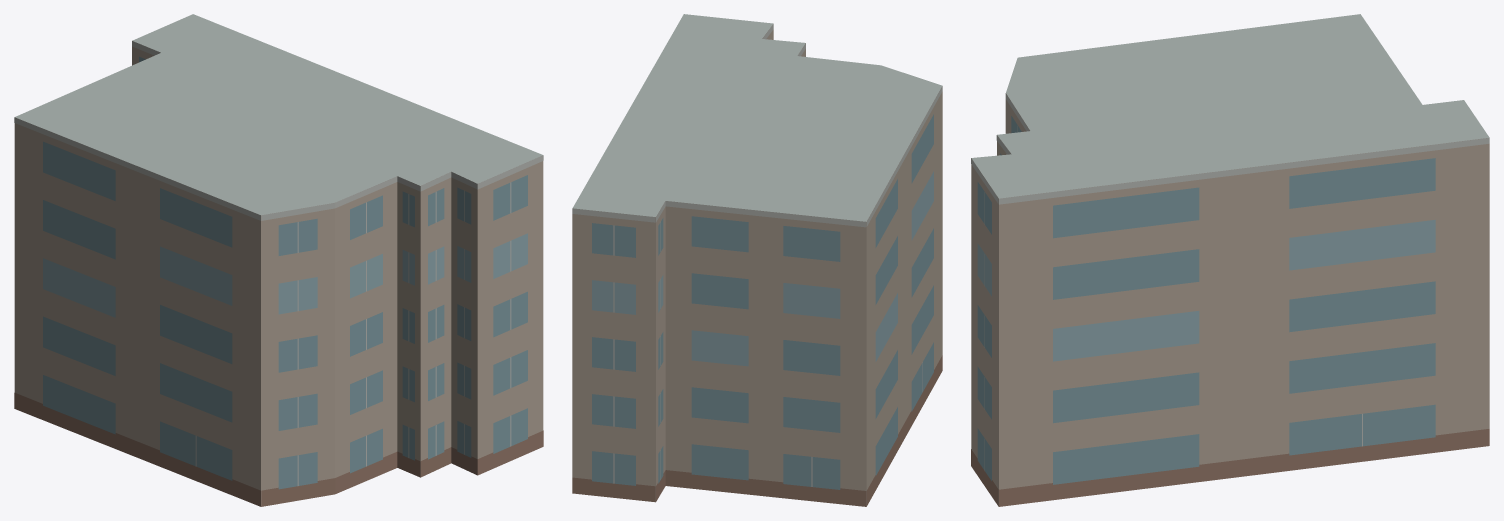
Rendered from survey-upis-32584248.glb.
3 renders of one model, left to right at view 1: azimuth 30°, elevation 25°; view 2: azimuth 150°, elevation 25°; view 3: azimuth 270°, elevation 25°, orthographic. The views are drawn at different scales.
Parts seen in each view (by area): view 1: survey-upis-32584248.tmp; view 2: survey-upis-32584248.tmp; view 3: survey-upis-32584248.tmp.
Part boxes in pixels (x1,y1,x2,y2): survey-upis-32584248.tmp: (14, 14, 543, 506); survey-upis-32584248.tmp: (572, 14, 942, 506); survey-upis-32584248.tmp: (971, 14, 1489, 506).
Size of the model in its own units: 16.07 by 12.5 by 19.06.
